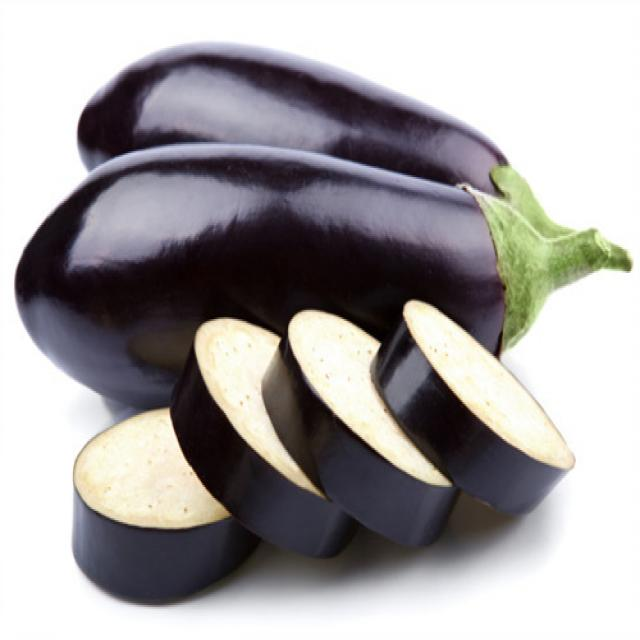eggplant: (14, 38, 625, 399), (18, 285, 640, 614), (378, 285, 614, 536), (166, 305, 374, 576), (35, 411, 288, 618), (272, 300, 460, 555)
